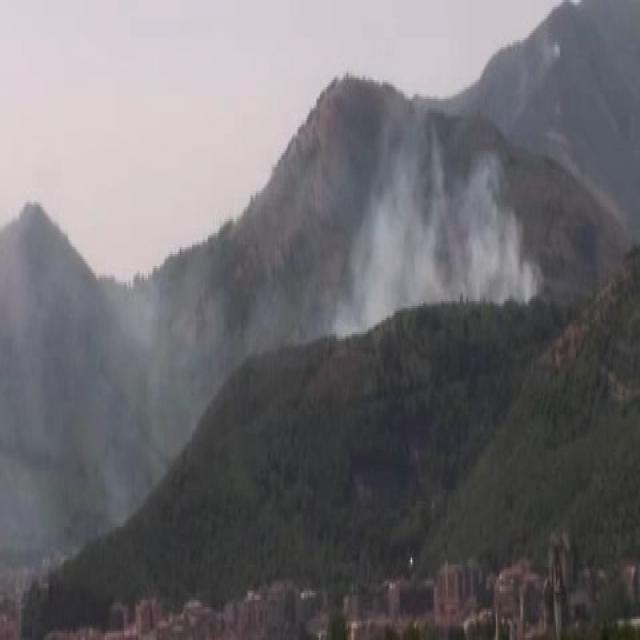smoke: (333, 146, 537, 333)
